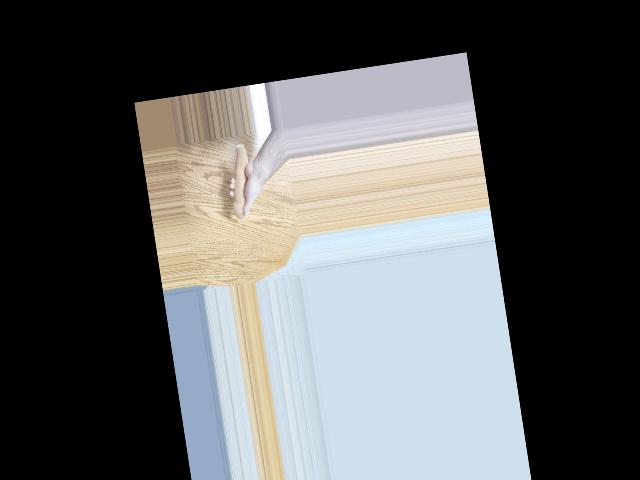sweet_potato: (222, 139, 259, 219)
